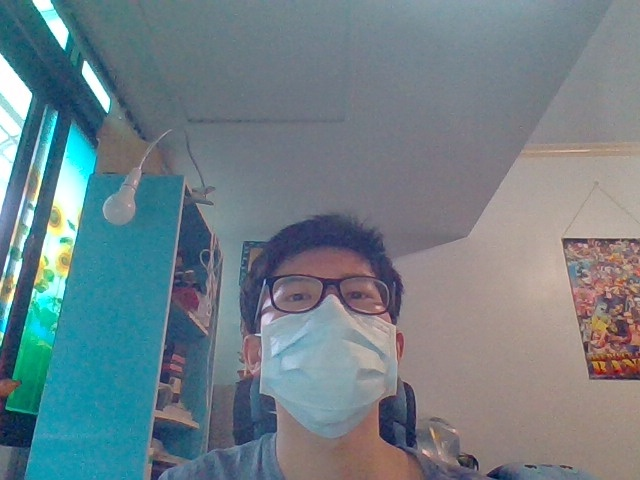Mask: (242, 300, 406, 440)
